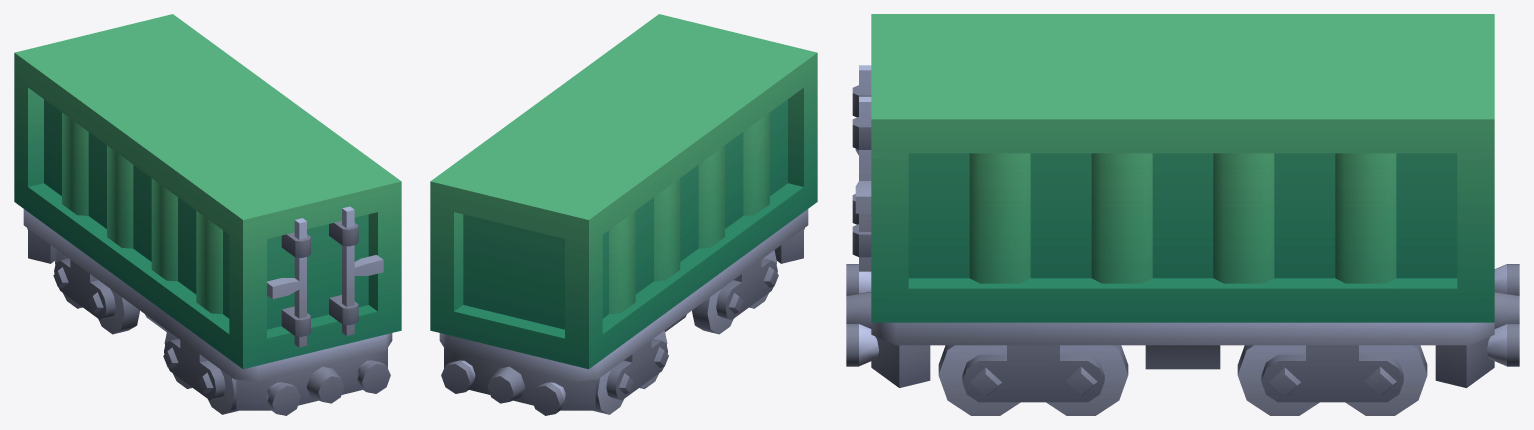
File: train-wag4.glb
3 views of the same model, side by side, from view 1: azimuth 30°, elevation 25°; view 2: azimuth 150°, elevation 25°; view 3: azimuth 270°, elevation 25° (orthographic). The views are drawn at different scales.
Visible parts, largest first — view 1: train-carriage-container-green; view 2: train-carriage-container-green; view 3: train-carriage-container-green.
Part boxes in pixels (x1,y1,x2,y2): train-carriage-container-green: (14, 14, 401, 415); train-carriage-container-green: (430, 14, 817, 415); train-carriage-container-green: (846, 14, 1519, 415).
Size of the model in its own units: 1 by 1.36 by 2.7.
Materials: 1 (1 with a texture image).
